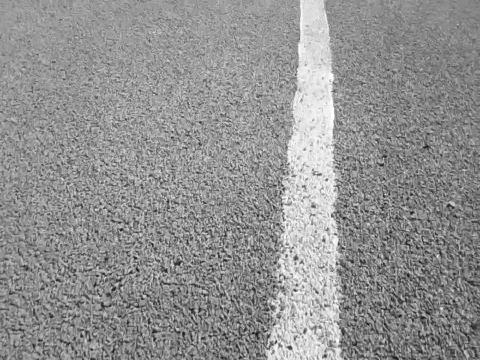Lines: (265, 0, 336, 360)
